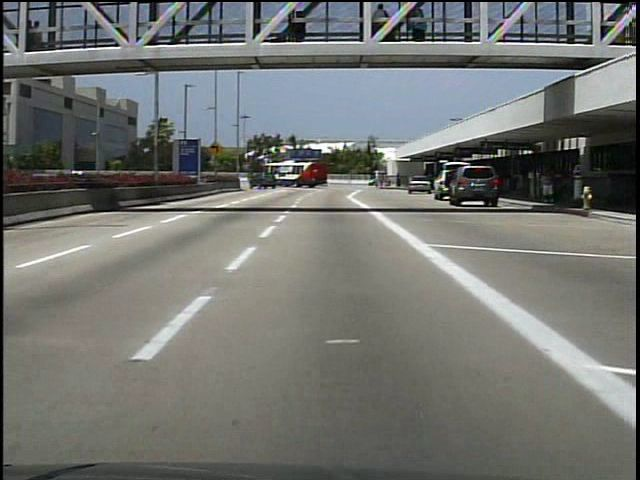person: (534, 157, 558, 205), (19, 15, 42, 57), (289, 12, 311, 45)
